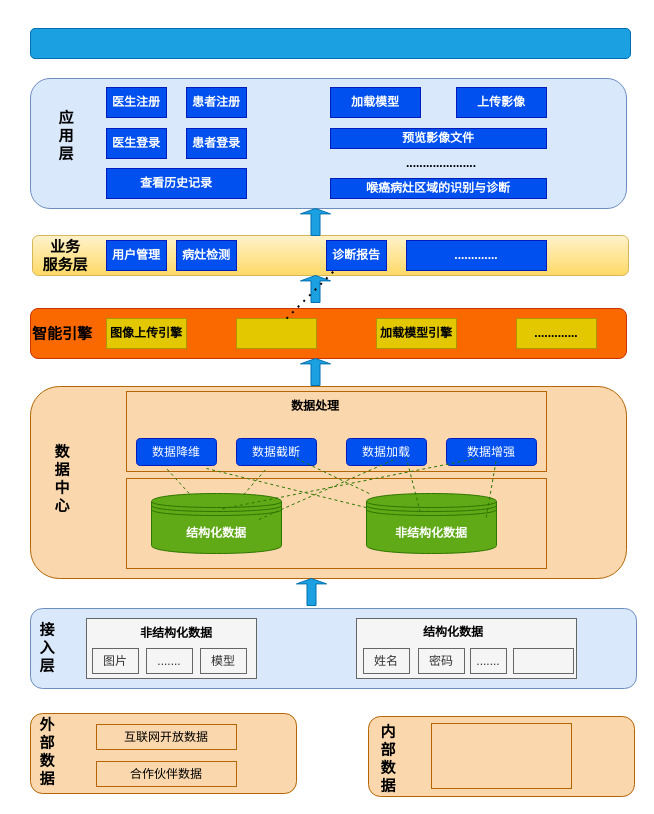
Some shapes in this 654 by 814 pixel diagram are drawn without their labels. The box of each missing label's shape, as (x1, y1, x2, y2) in pixels:
基于深度学习的喉癌类病灶区域识别与诊断系统: (30, 28, 630, 58)
展示图片引擎: (236, 318, 316, 348)
百度AI studio开源 影像集: (430, 722, 572, 788)
诊断日期: (512, 648, 574, 674)
